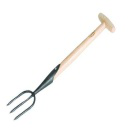fork: (8, 11, 127, 119)
